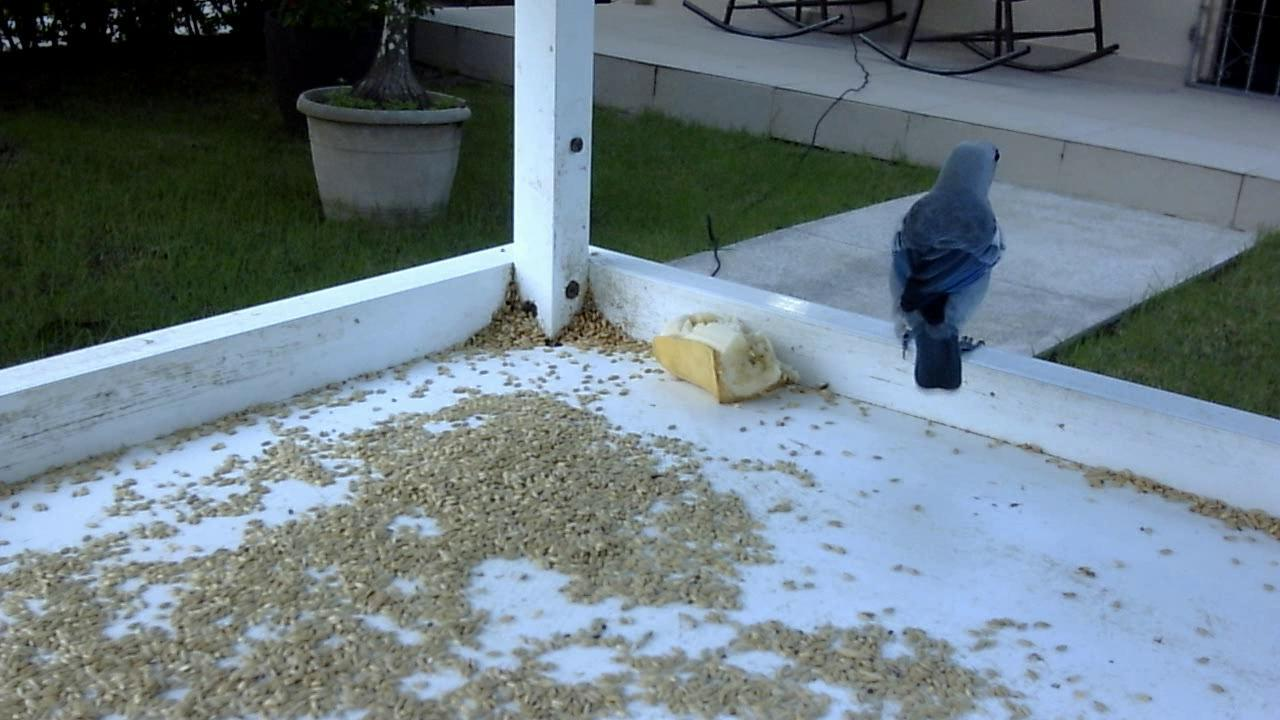sanhaco_da_amazonia: (882, 137, 1016, 395)
